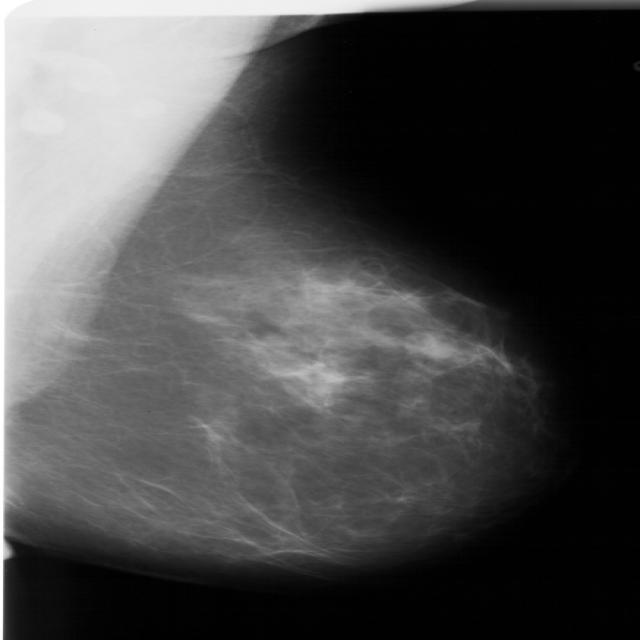tumour: (406, 333, 454, 360)
